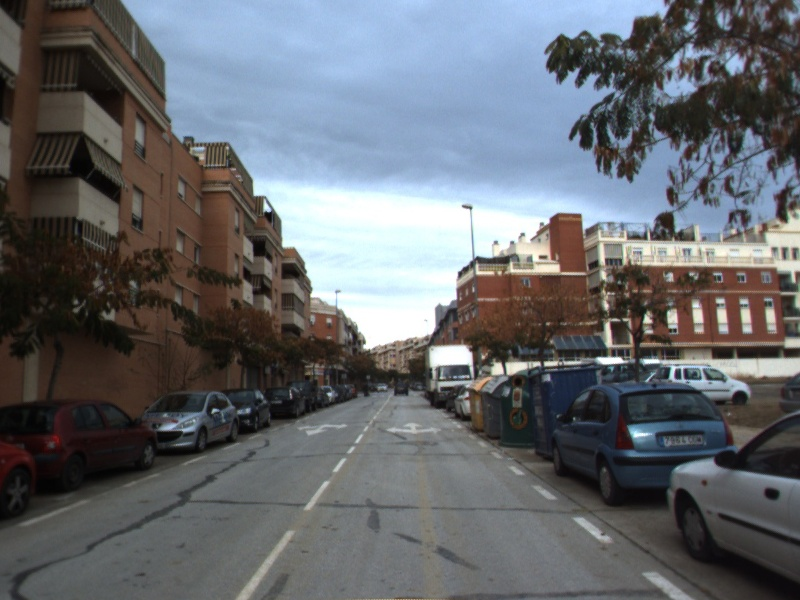STRAIGHT_LEFT_RIGHT: (384, 420, 444, 436)
